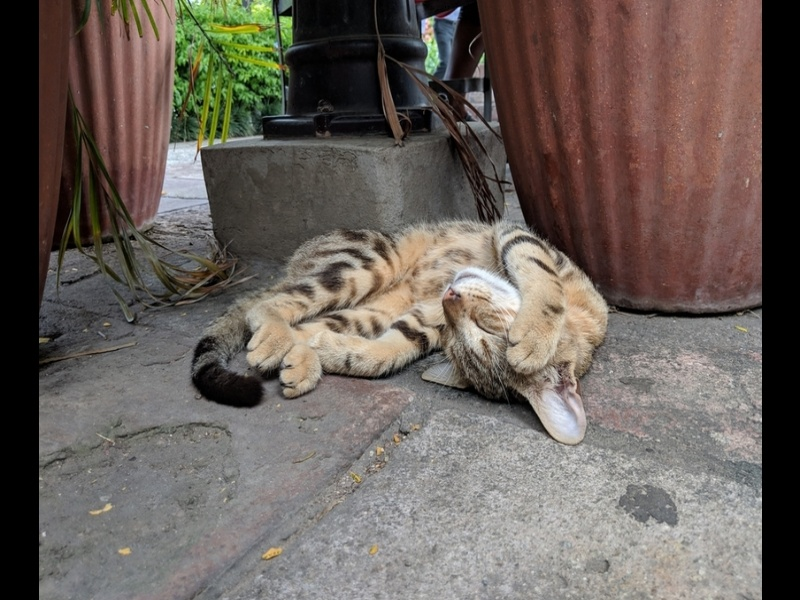cat: (189, 219, 616, 456)
